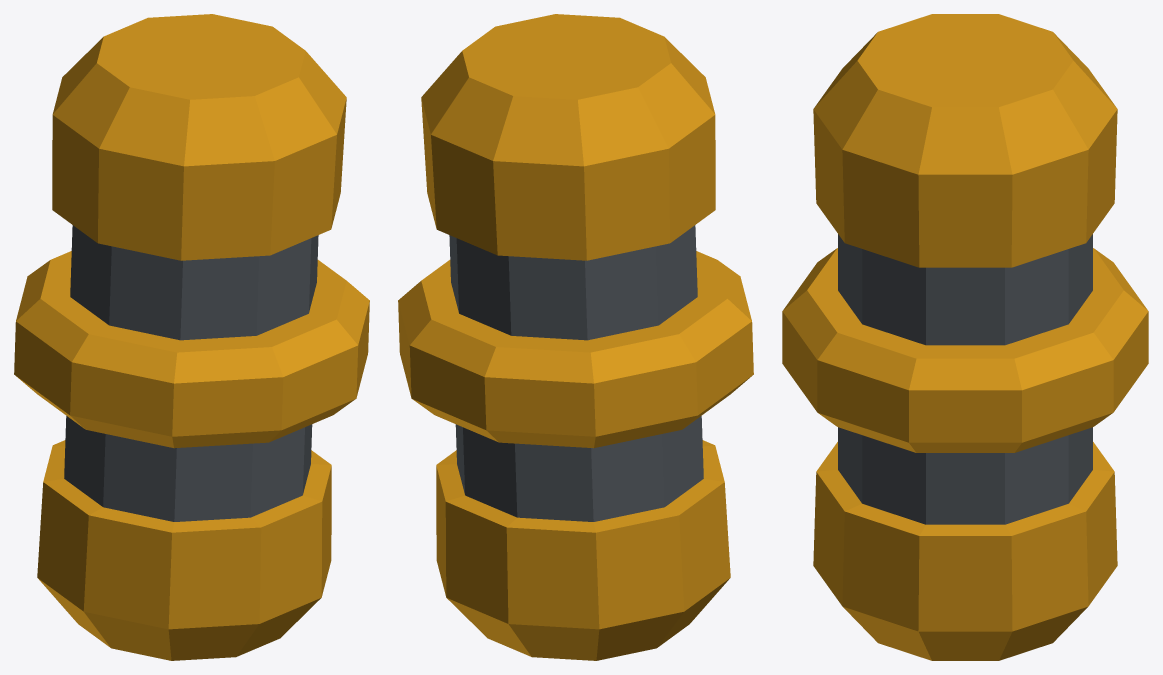
Rendered from Dropship_05_Fuse_Yellow.fbx.
The picture shows the model from 3 angles, left to right: view 1: azimuth 30°, elevation 25°; view 2: azimuth 150°, elevation 25°; view 3: azimuth 270°, elevation 25°; orthographic projection.
Visible parts, largest first — view 1: Dropship_05_Fuse_Yellow; view 2: Dropship_05_Fuse_Yellow; view 3: Dropship_05_Fuse_Yellow.
Boxes of the visible parts, left/top/right/bottom form: Dropship_05_Fuse_Yellow: left=14, top=14, right=369, bottom=660; Dropship_05_Fuse_Yellow: left=398, top=14, right=753, bottom=660; Dropship_05_Fuse_Yellow: left=782, top=14, right=1148, bottom=660.
Bounding box in the file's own units: 53.92 × 96.76 × 56.4.
1 material, 1 textured.
